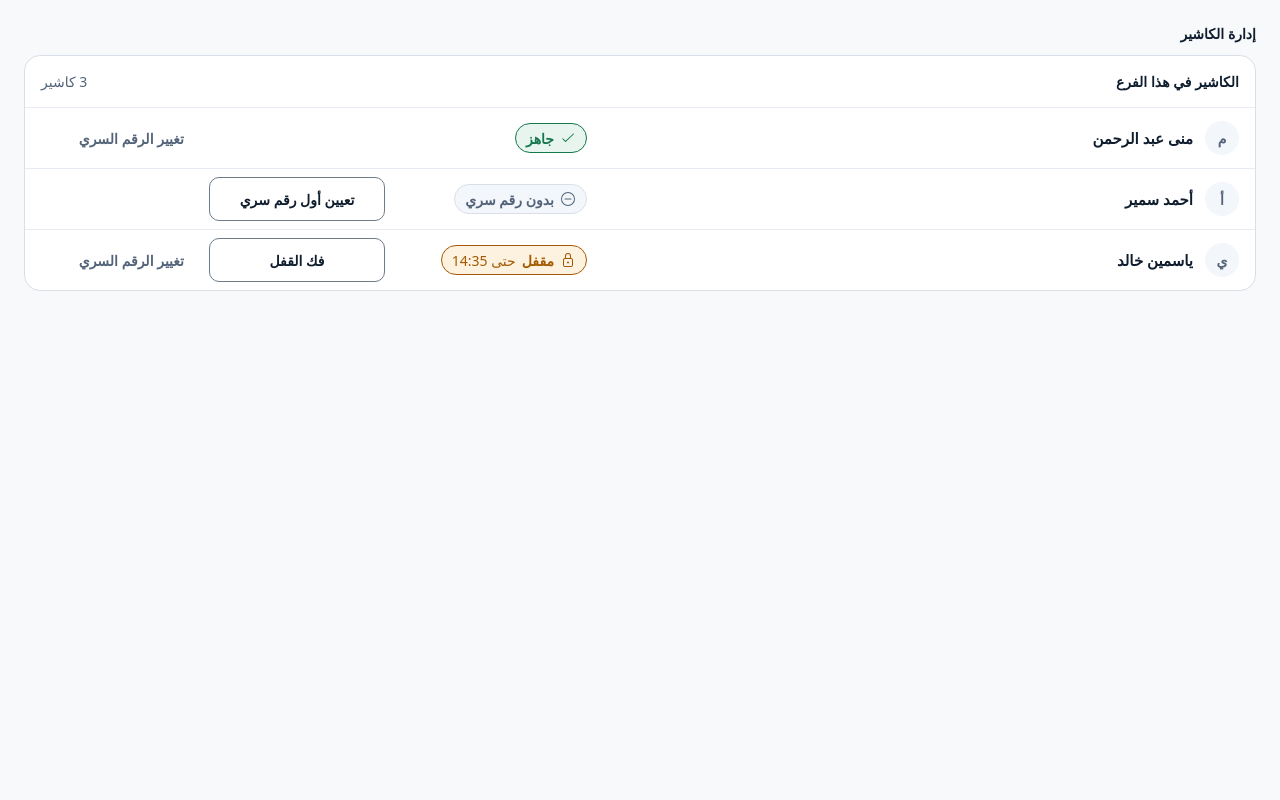
Test: RT-424 CashiersScreen — M6 session expired (RT-358) › a second reauth_required right after a re-auth never prompts again
Click the button "تعيين أول رقم سري": (297, 199) [209,177,385,221]
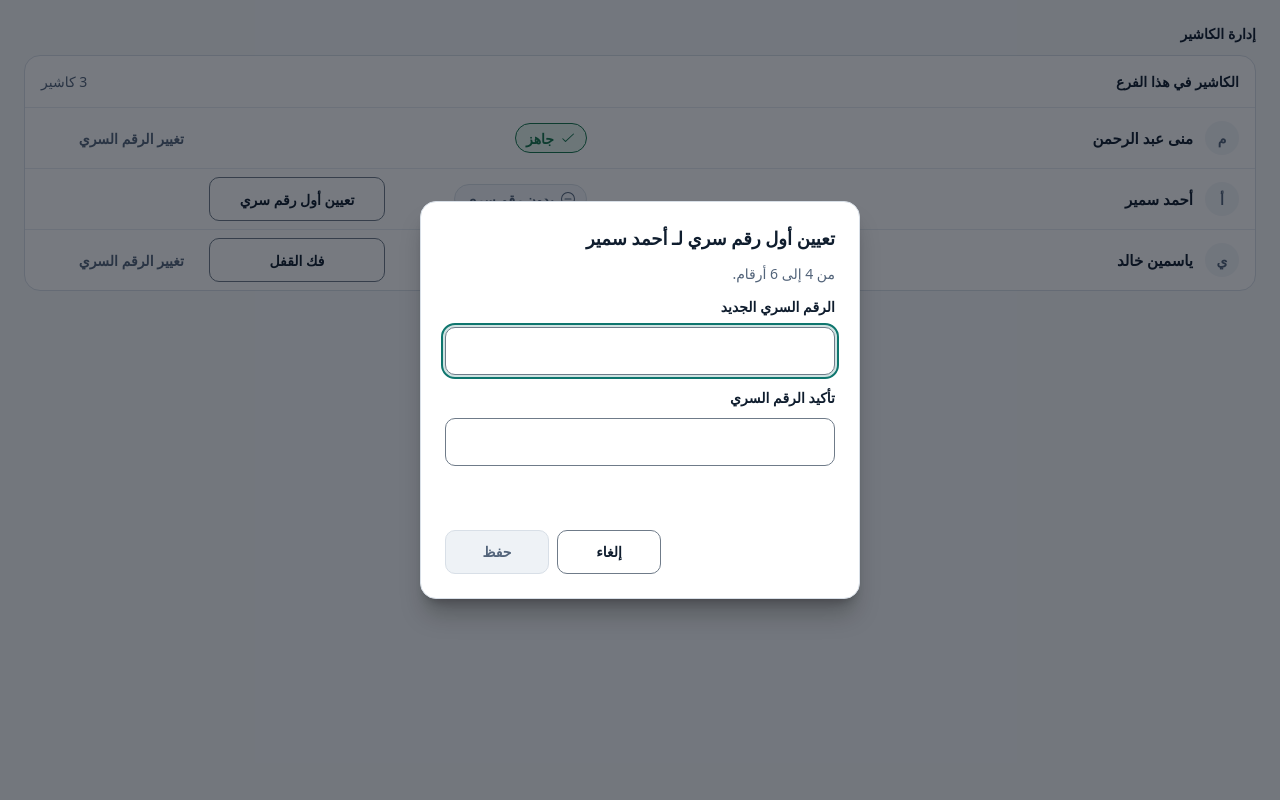
In the password field labelled "الرقم السري الجديد": (640, 351) [445,327,835,375], type "4729"
In the password field labelled "تأكيد الرقم السري": (640, 442) [445,418,835,466], type "4729"
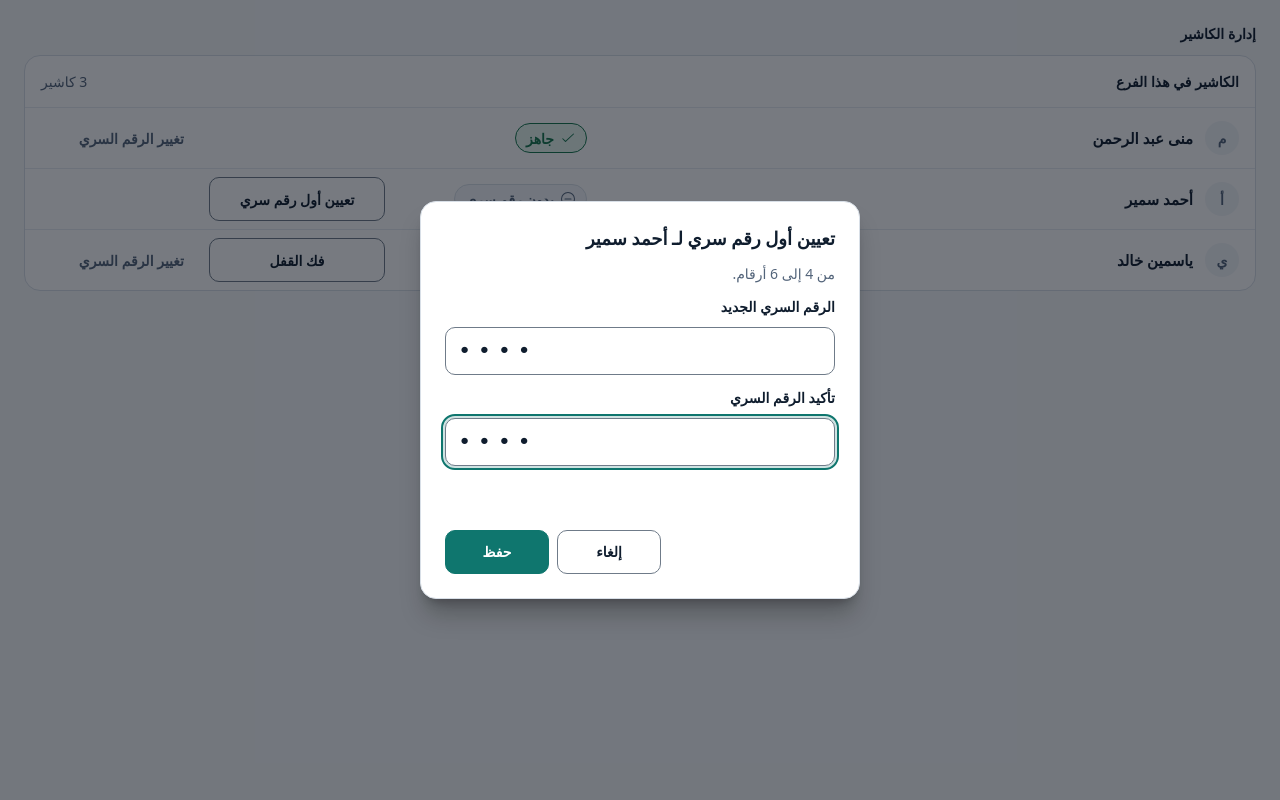
Click the button "حفظ": (497, 552) [445,530,549,574]
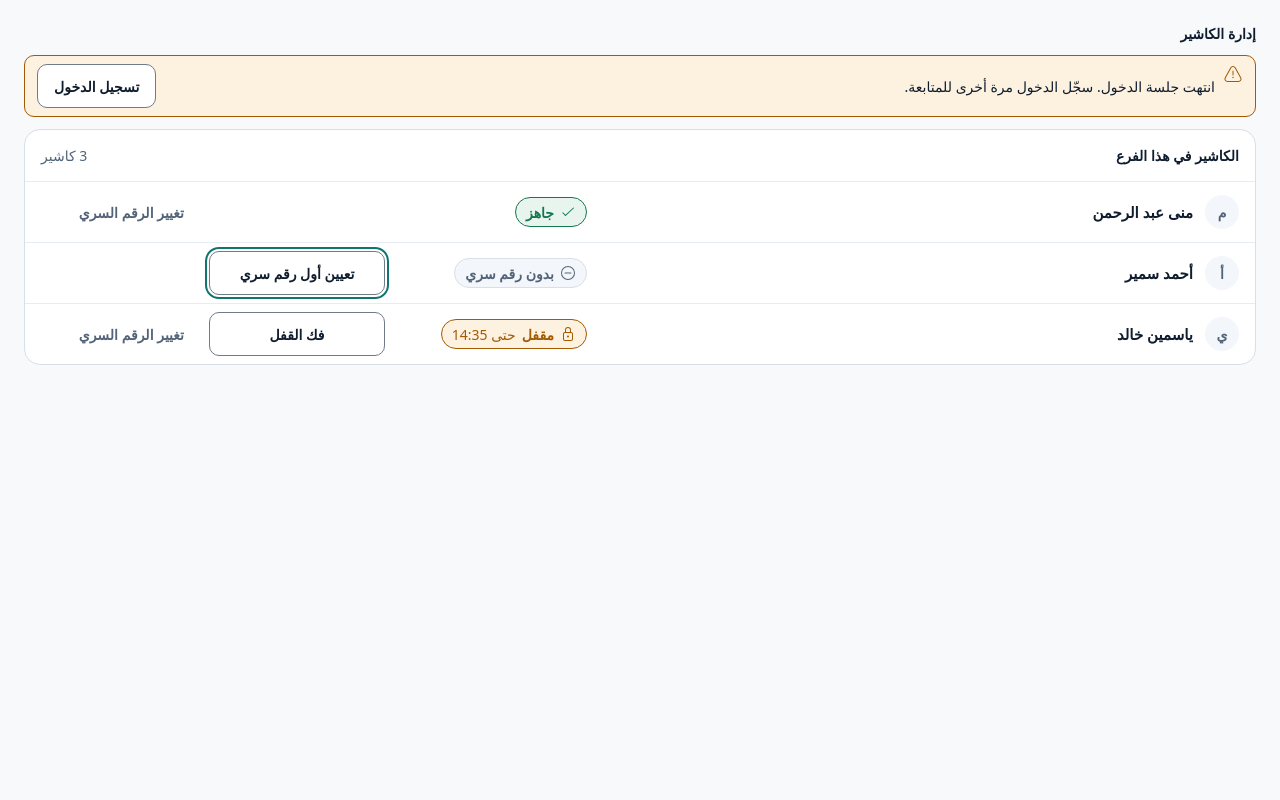
Click the button "تسجيل الدخول": (97, 86) [37,64,156,108]
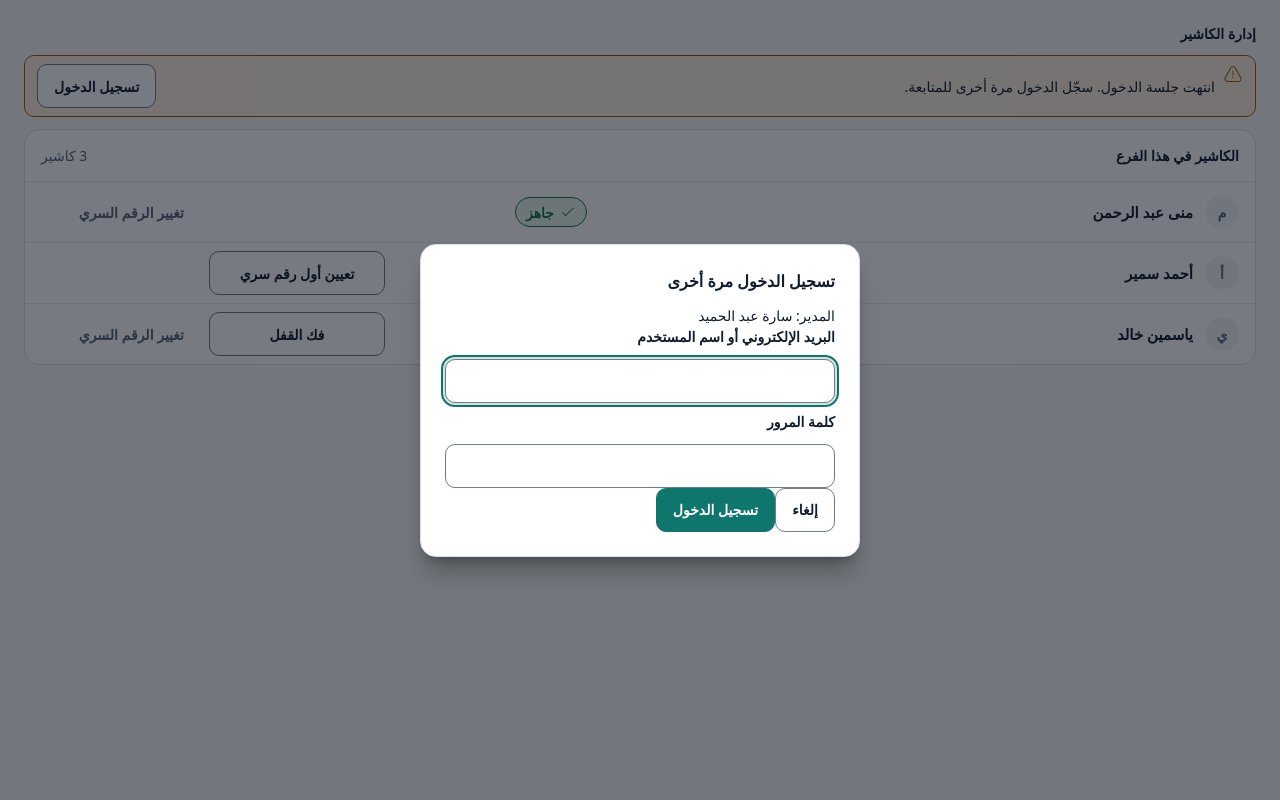
In the field with test id "reauth-identifier": (640, 380) [445,358,835,402], type "mgr@example.test"
In the password field with test id "reauth-password": (640, 466) [445,444,835,488], type "pw"
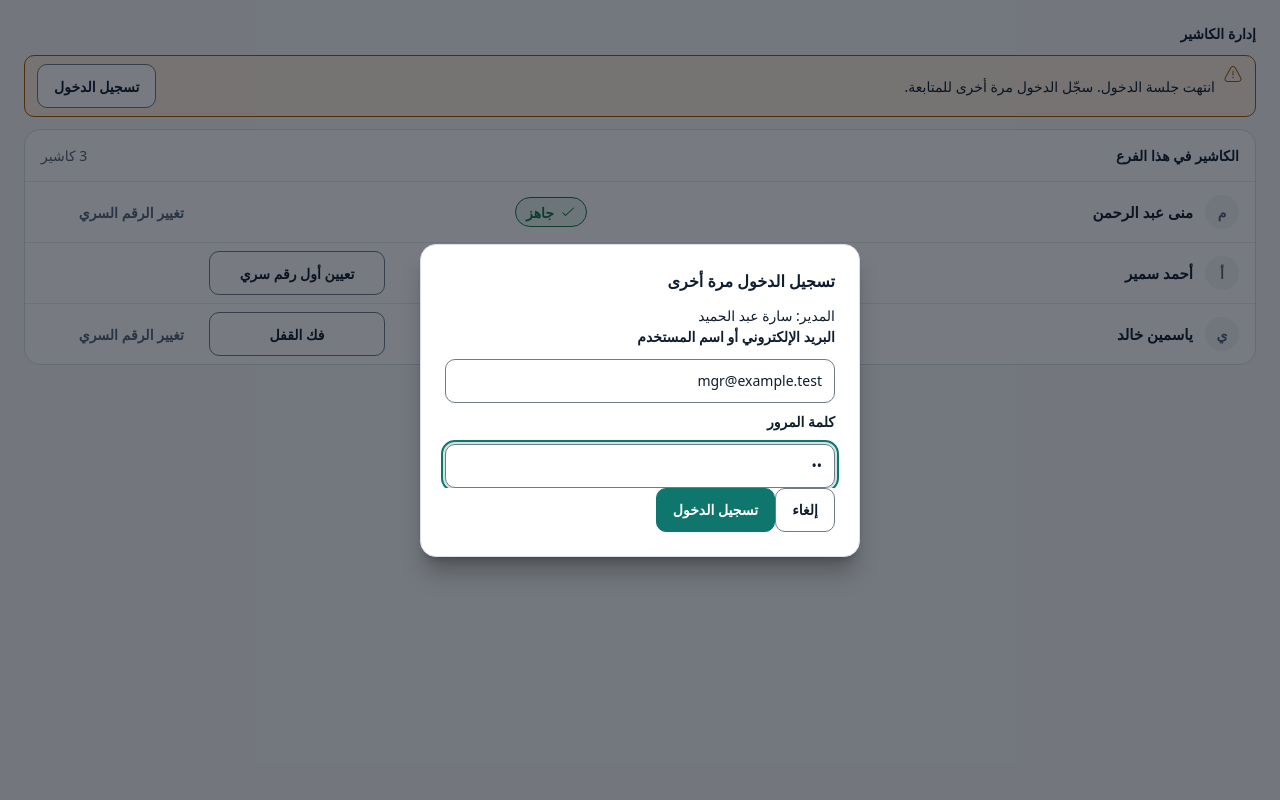
Click the button "تسجيل الدخول": (716, 510) [656,488,775,532]
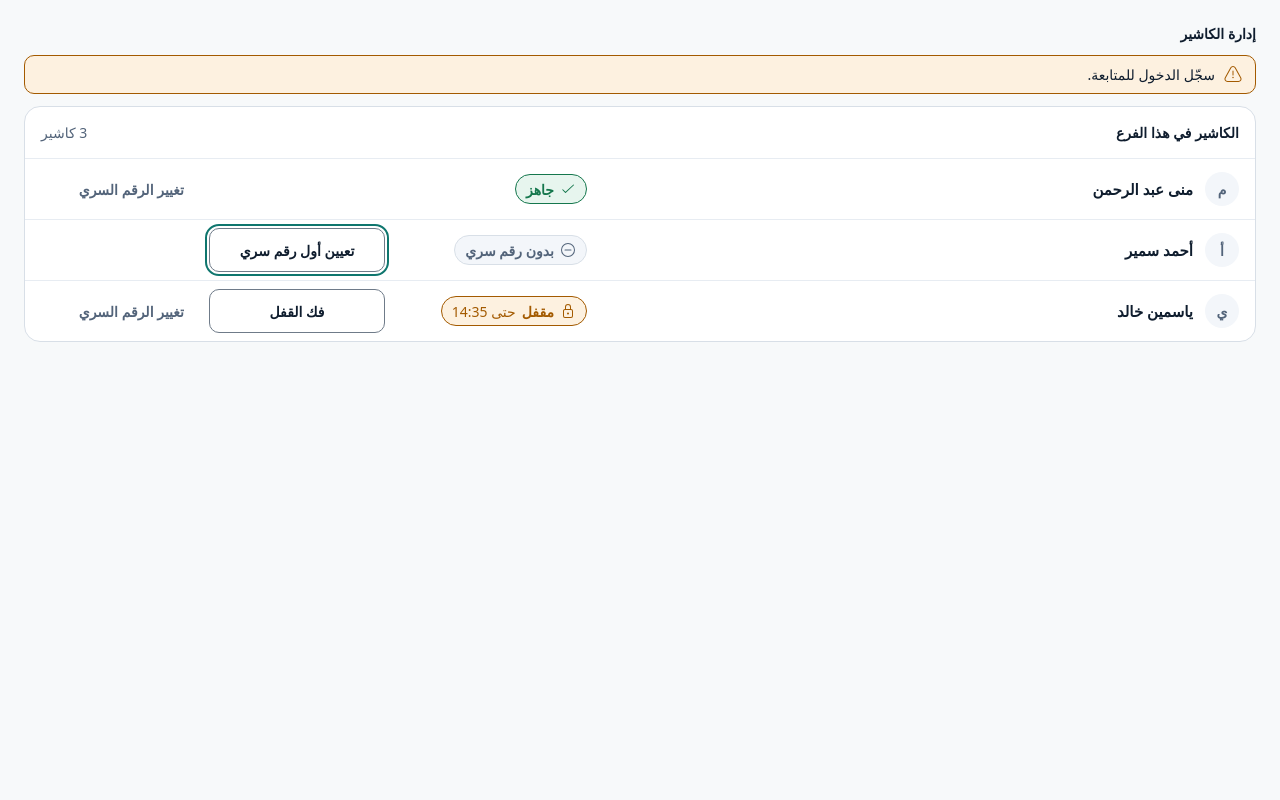
Expected: the element with test id "action-error" reads "سجّل الدخول للمتابعة.", [1087,65,1215,84]
Expected: the element with test id "reauth-required" is gone
